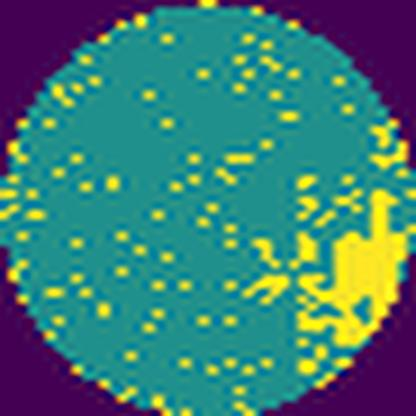Edge-Loc: (298, 182, 415, 379)
